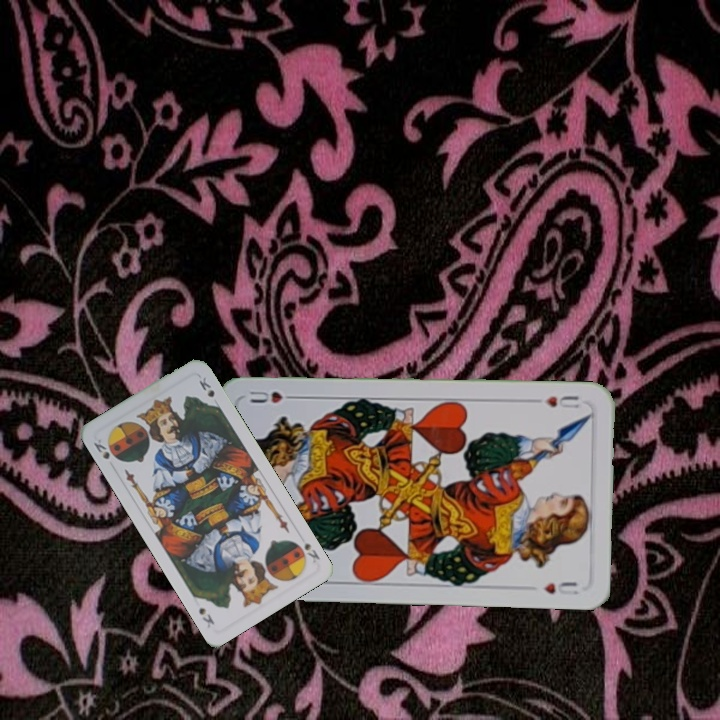HU: (541, 392, 585, 411)
SK: (300, 537, 323, 565), (89, 435, 112, 462)
